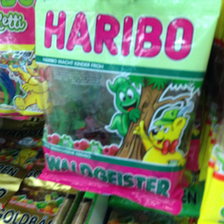candy: (35, 2, 216, 214)
